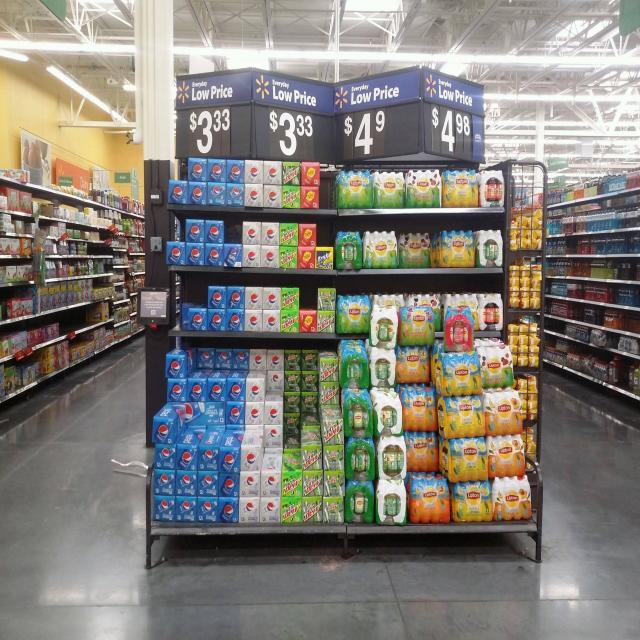void: (320, 165, 336, 208), (182, 286, 209, 307), (299, 289, 318, 311), (225, 222, 243, 245), (168, 220, 187, 241), (317, 223, 334, 246)
